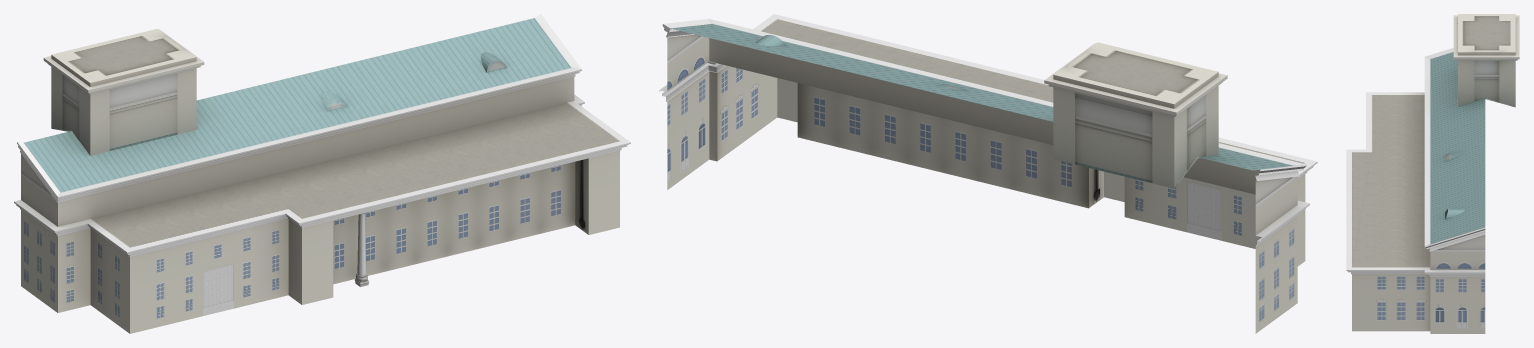
Rendered from Dramikom_drm_h+drm_l.gltf.
3 views of the same model, side by side, from view 1: azimuth 30°, elevation 25°; view 2: azimuth 150°, elevation 25°; view 3: azimuth 270°, elevation 25° (orthographic). The views are drawn at different scales.
Parts seen in each view (by area): view 1: cd742070-8114-4ad5-b0bb-569a8021d904; view 2: cd742070-8114-4ad5-b0bb-569a8021d904; view 3: cd742070-8114-4ad5-b0bb-569a8021d904.
Boxes of the visible parts, x1,y1,x2,y2 form: cd742070-8114-4ad5-b0bb-569a8021d904: [14, 14, 630, 333]; cd742070-8114-4ad5-b0bb-569a8021d904: [659, 14, 1317, 333]; cd742070-8114-4ad5-b0bb-569a8021d904: [1346, 14, 1519, 333].
Size of the model in its own units: 67.29 by 24.76 by 25.73.
2 materials, 2 textured.
